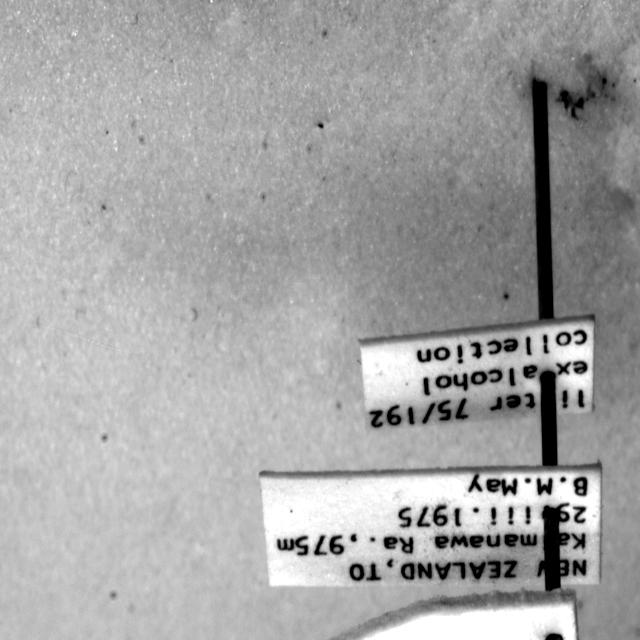typed_label: (260, 463, 601, 587), (360, 315, 595, 429)
